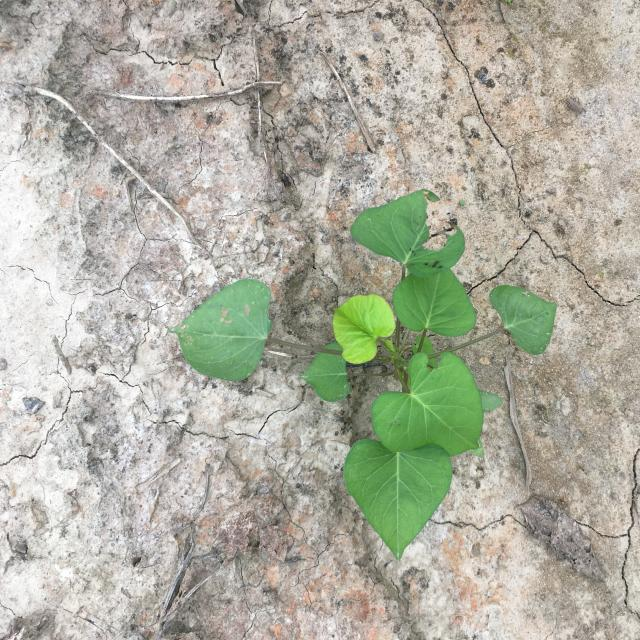MorningGlory: (168, 189, 557, 560)
